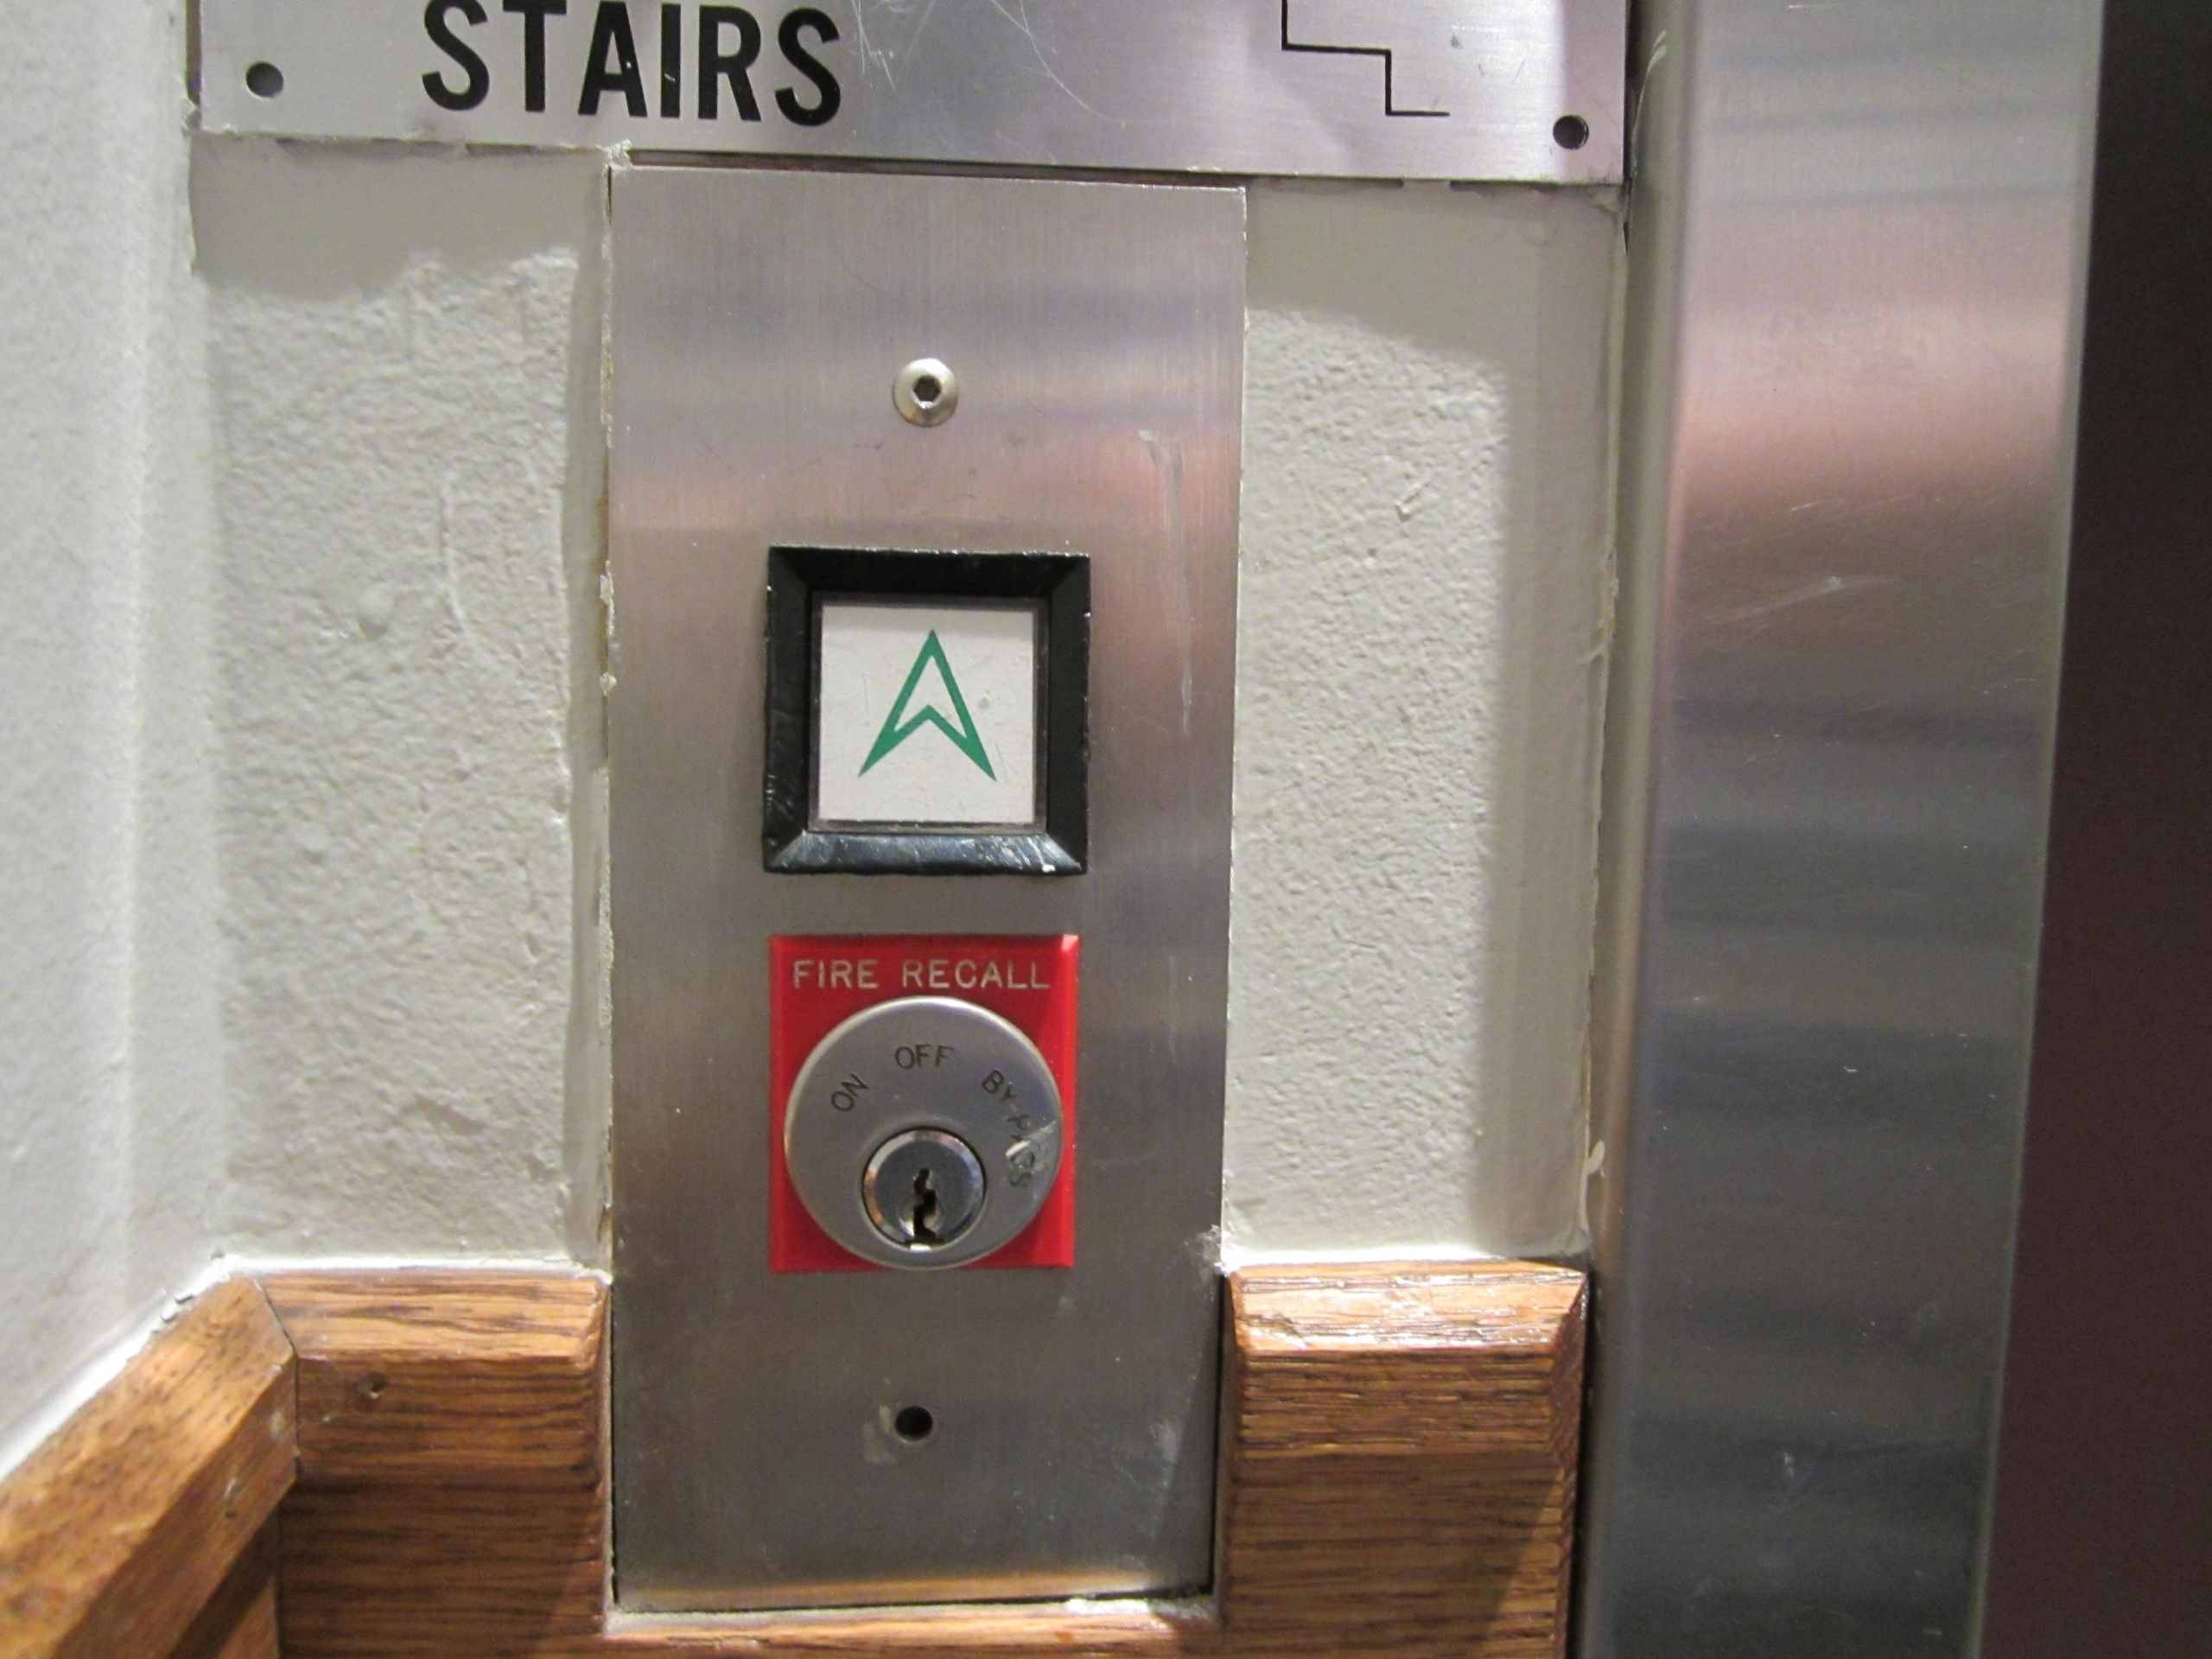keyhole: (765, 934, 1080, 1272)
up: (758, 537, 1099, 882)
